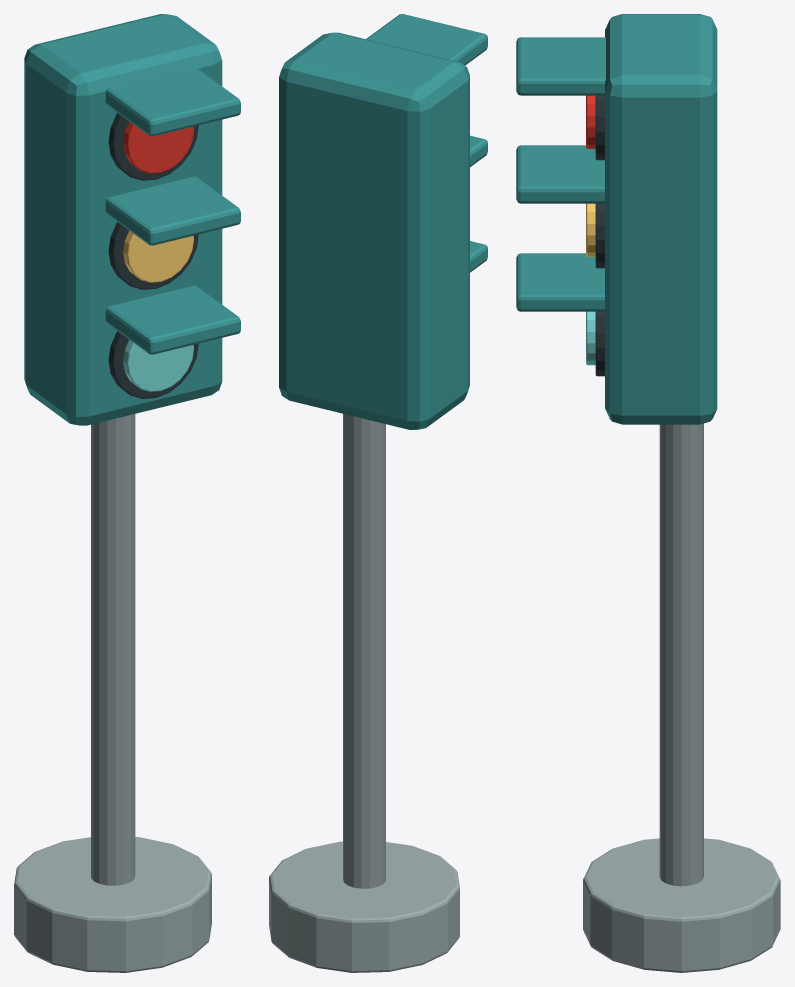
File: S062_traffic_signal.glb
3 views of the same model, side by side, from view 1: azimuth 30°, elevation 25°; view 2: azimuth 150°, elevation 25°; view 3: azimuth 270°, elevation 25° (orthographic). The views are drawn at different scales.
Parts seen in each view (by area): view 1: signal_box, signal_base, signal_pole, signal_hood, signal_hood.002, signal_hood.001, signal_lens, signal_lens.002, signal_lens.001, signal_recess.001, signal_recess, signal_recess.002; view 2: signal_box, signal_pole, signal_base, signal_hood; view 3: signal_box, signal_base, signal_pole, signal_hood, signal_hood.002, signal_hood.001, signal_recess, signal_recess.001, signal_recess.002.
Boxes of the visible parts, left/top/right/bottom form: signal_box: left=24, top=14, right=222, bottom=425; signal_base: left=14, top=837, right=211, bottom=972; signal_pole: left=91, top=414, right=135, bottom=885; signal_hood: left=105, top=67, right=240, bottom=136; signal_hood.002: left=105, top=285, right=240, bottom=354; signal_hood.001: left=105, top=176, right=240, bottom=245; signal_lens: left=123, top=121, right=193, bottom=173; signal_lens.002: left=123, top=340, right=193, bottom=391; signal_lens.001: left=123, top=231, right=193, bottom=282; signal_recess.001: left=108, top=222, right=198, bottom=289; signal_recess: left=108, top=113, right=198, bottom=180; signal_recess.002: left=108, top=331, right=198, bottom=398; signal_box: left=279, top=32, right=469, bottom=429; signal_pole: left=343, top=413, right=385, bottom=888; signal_base: left=269, top=841, right=459, bottom=972; signal_hood: left=366, top=14, right=487, bottom=65; signal_box: left=605, top=14, right=717, bottom=424; signal_base: left=583, top=838, right=780, bottom=972; signal_pole: left=659, top=423, right=703, bottom=886; signal_hood: left=516, top=37, right=605, bottom=95; signal_hood.002: left=516, top=253, right=604, bottom=311; signal_hood.001: left=516, top=145, right=604, bottom=203; signal_recess: left=595, top=95, right=604, bottom=160; signal_recess.001: left=595, top=203, right=604, bottom=268; signal_recess.002: left=595, top=311, right=604, bottom=376.
Size of the model in its own units: 0.58 by 2.87 by 0.775.
